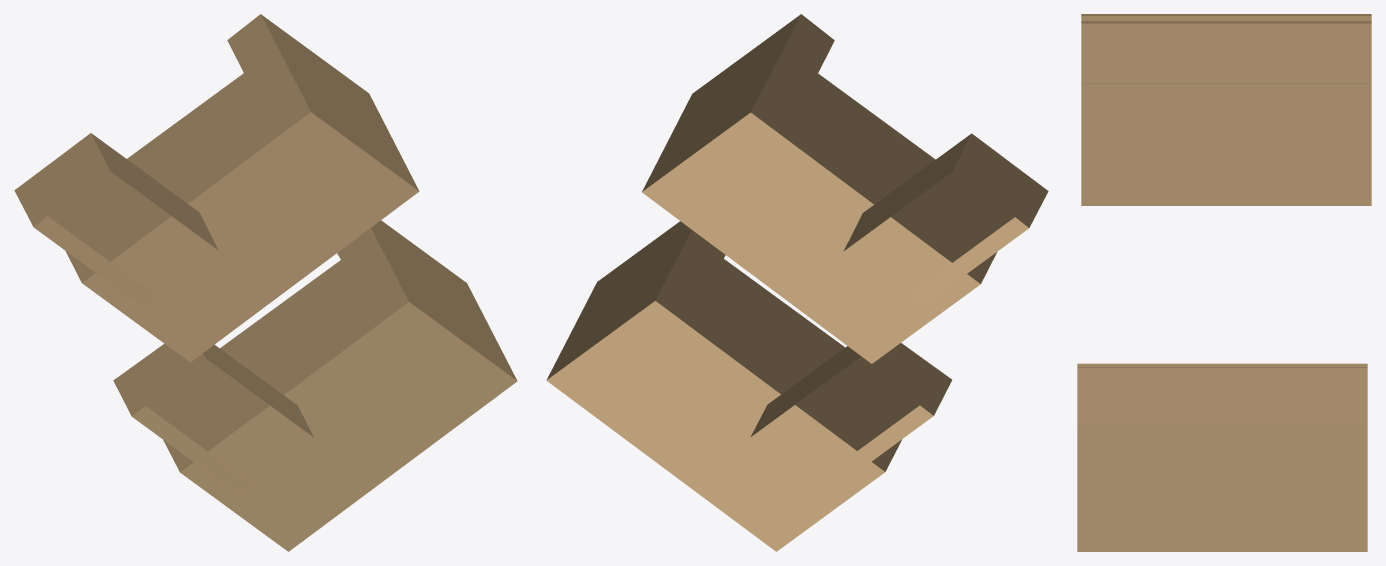
The picture shows the model from 3 angles, left to right: view 1: azimuth 30°, elevation 25°; view 2: azimuth 150°, elevation 25°; view 3: azimuth 270°, elevation 25°; orthographic projection. The views are drawn at different scales.
Parts seen in each view (by area): view 1: 0_1_0_2_2_1_1_1_0; view 2: 0_1_0_2_2_1_1_1_0; view 3: 0_1_0_2_2_1_1_1_0.
Boxes of the visible parts, x1=… form: 0_1_0_2_2_1_1_1_0: x1=14, y1=14, x2=517, y2=551; 0_1_0_2_2_1_1_1_0: x1=546, y1=14, x2=1048, y2=551; 0_1_0_2_2_1_1_1_0: x1=1077, y1=14, x2=1371, y2=551.
Size of the model in its own units: 43.91 by 46.67 by 21.3.
